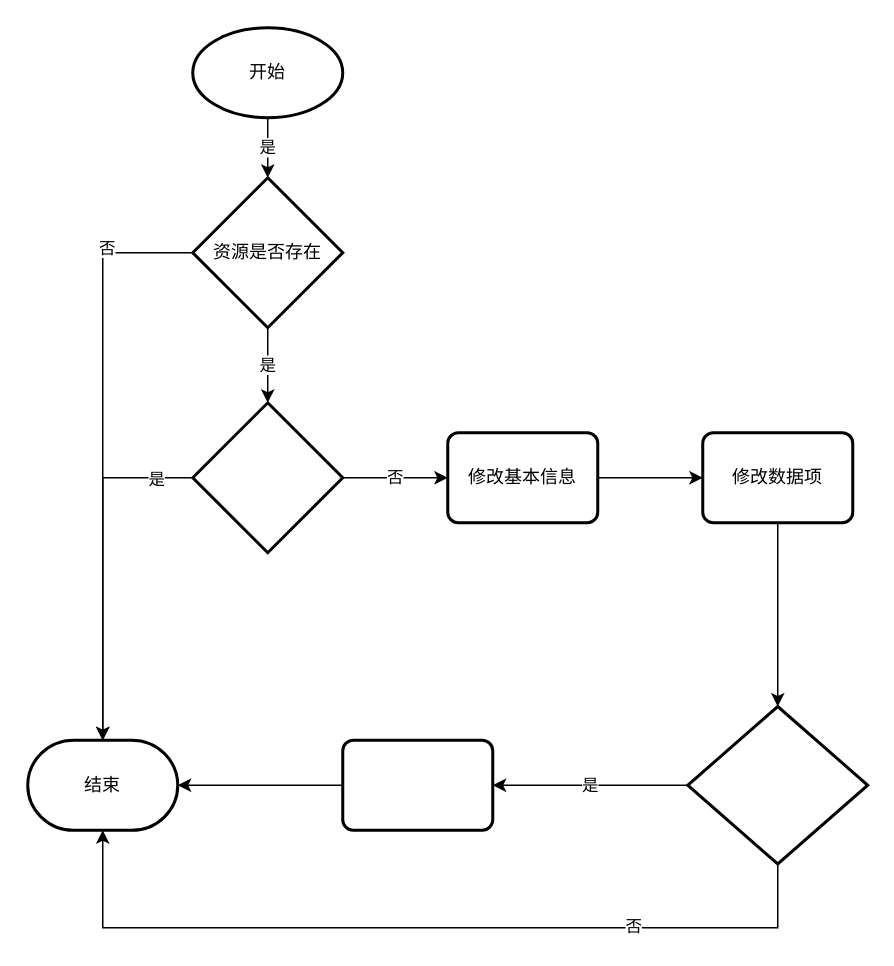
This 894x966 diagram has some shape labels left out. Here are the shapes that lost their labels. From the top down, the box of each, then its label:
(190, 400, 344, 554): 资源是否已发布
(340, 738, 494, 831): 清除配置信息
(686, 704, 868, 865): 数据项名称或类型 是否有变化
